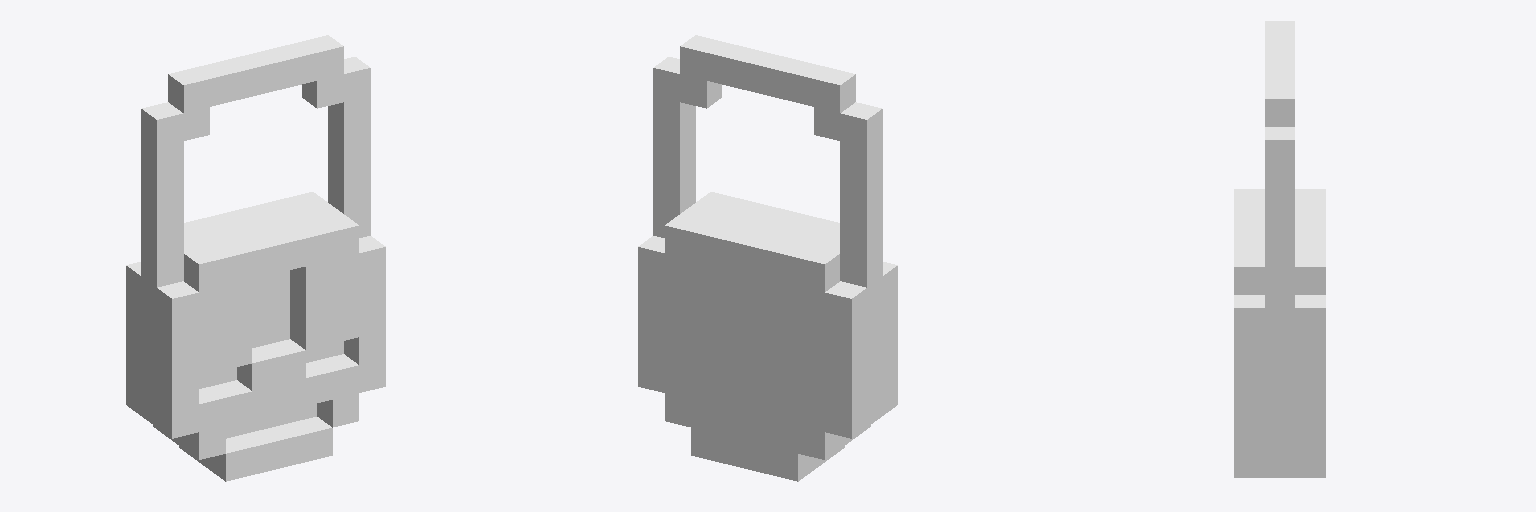
The model's file is PadlockCave.obj.
3 views of the same model, side by side, from view 1: azimuth 30°, elevation 25°; view 2: azimuth 150°, elevation 25°; view 3: azimuth 270°, elevation 25° (orthographic).
Parts seen in each view (by area): view 1: object 1; view 2: object 1; view 3: object 1.
Boxes of the visible parts, x1,y1,x2,y2 form: object 1: [126, 35, 385, 481]; object 1: [638, 35, 897, 481]; object 1: [1234, 21, 1325, 477].
Size of the model in its own units: 0.8 by 1.4 by 0.3.